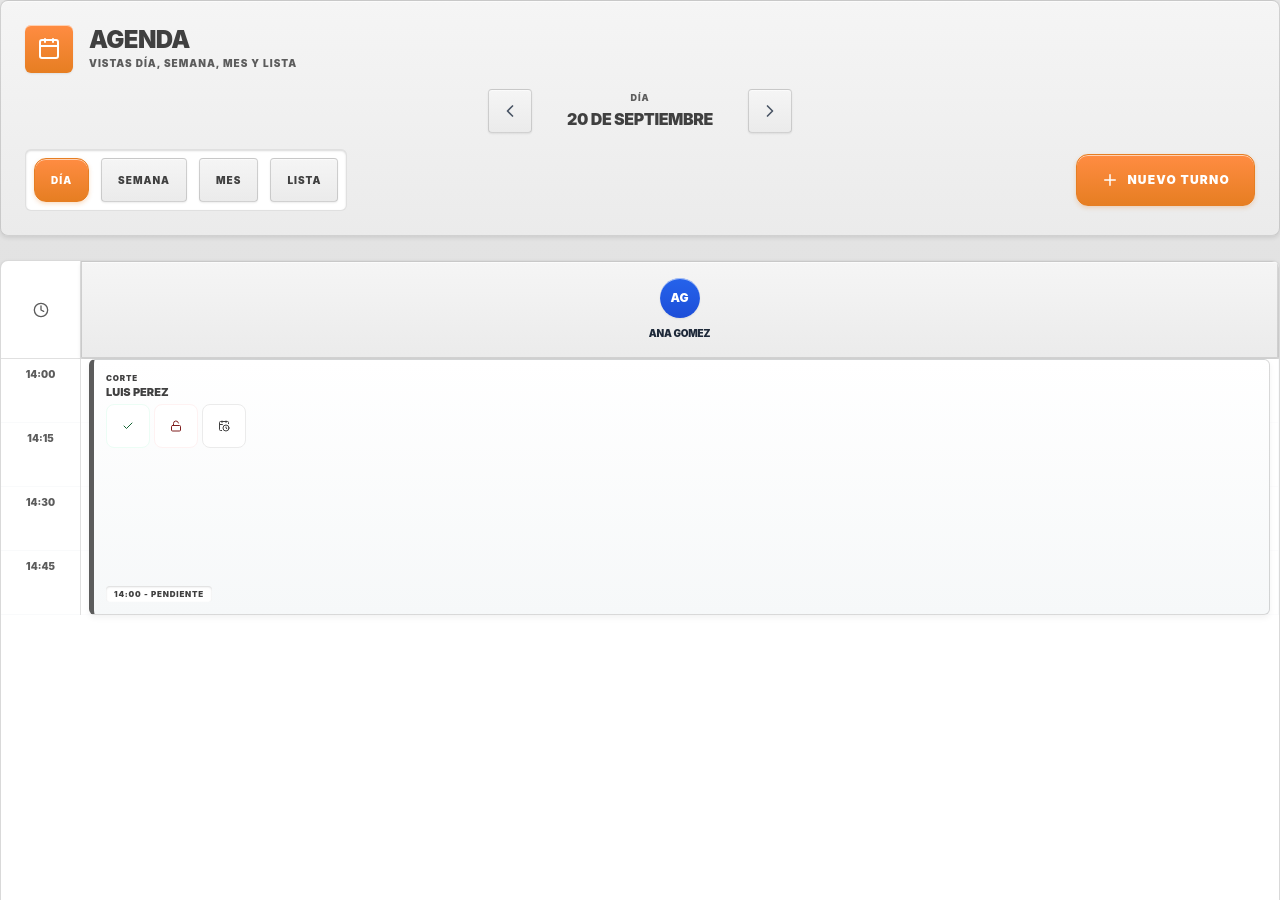
Test: CalendarContainer - desfasaje de estado (FF-02) › un INVALID_STATUS_TRANSITION explica el problema y recarga la agenda
Click the button named "Confirmar turno".
click(128, 426)  # box left=106, top=404, right=150, bottom=448
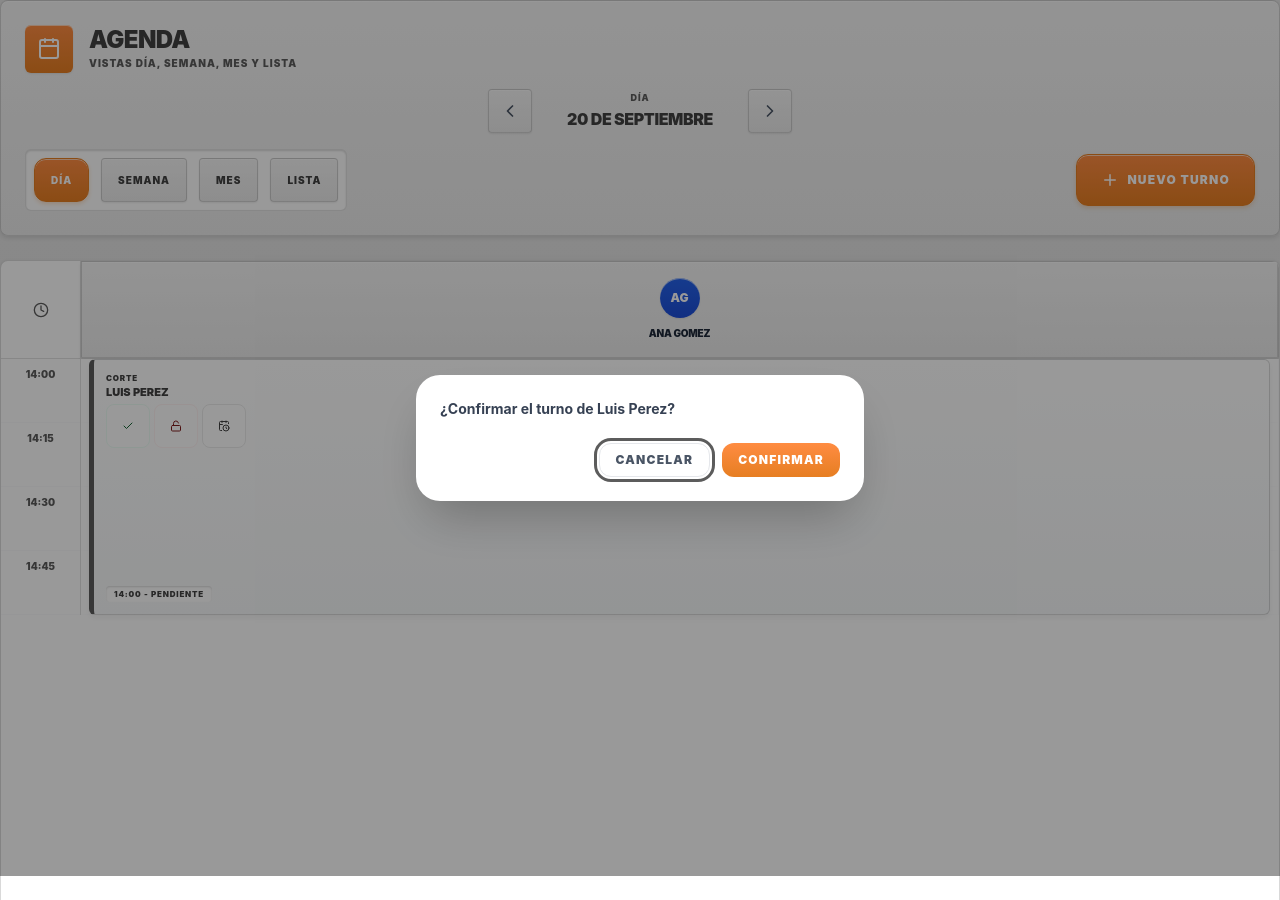
Click the button "Confirmar".
click(781, 460)  # box left=722, top=443, right=840, bottom=477
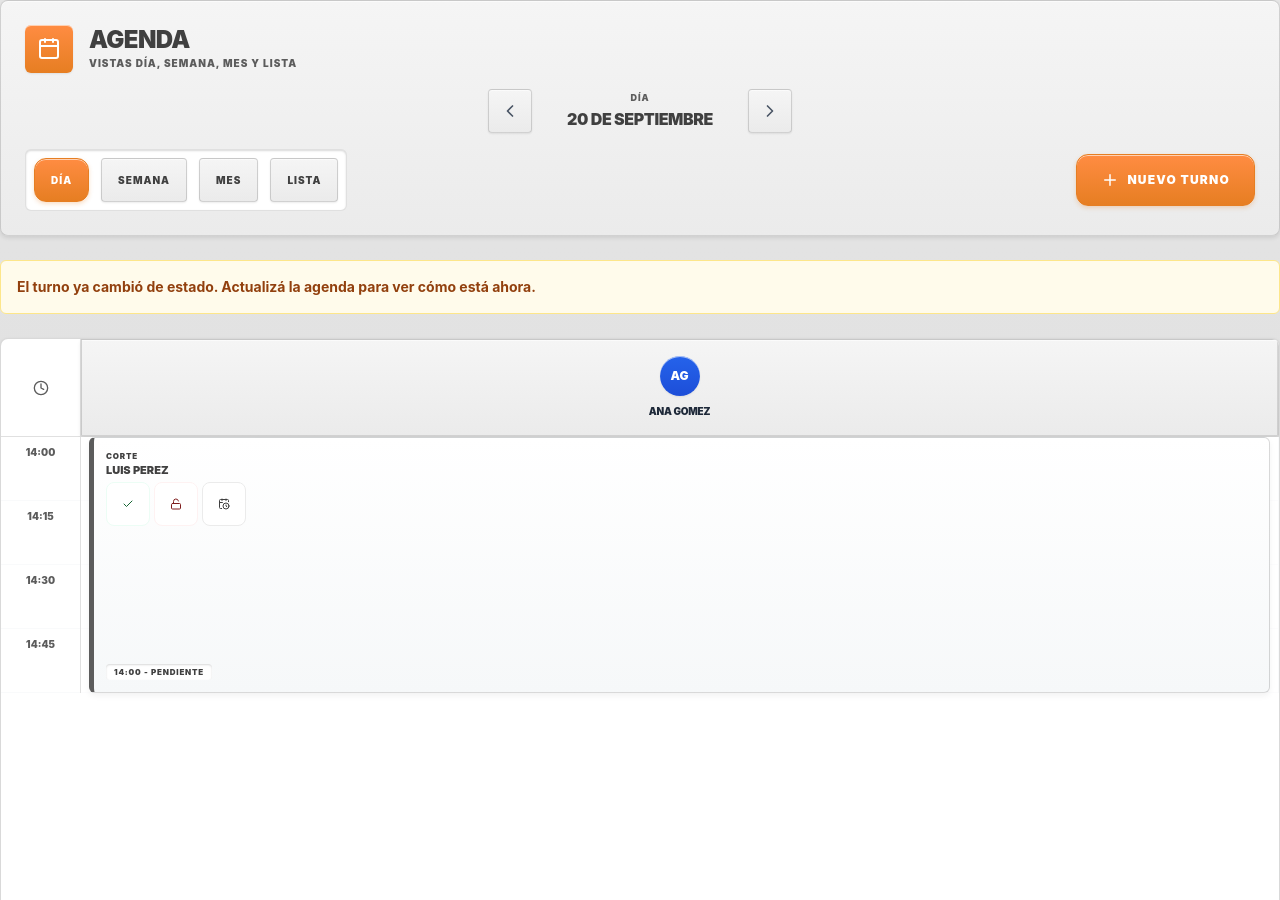
Result: the text "El turno ya cambió de estado. Actualizá la agenda para ver cómo está ahora." is shown at left=0, top=260, right=1279, bottom=314
